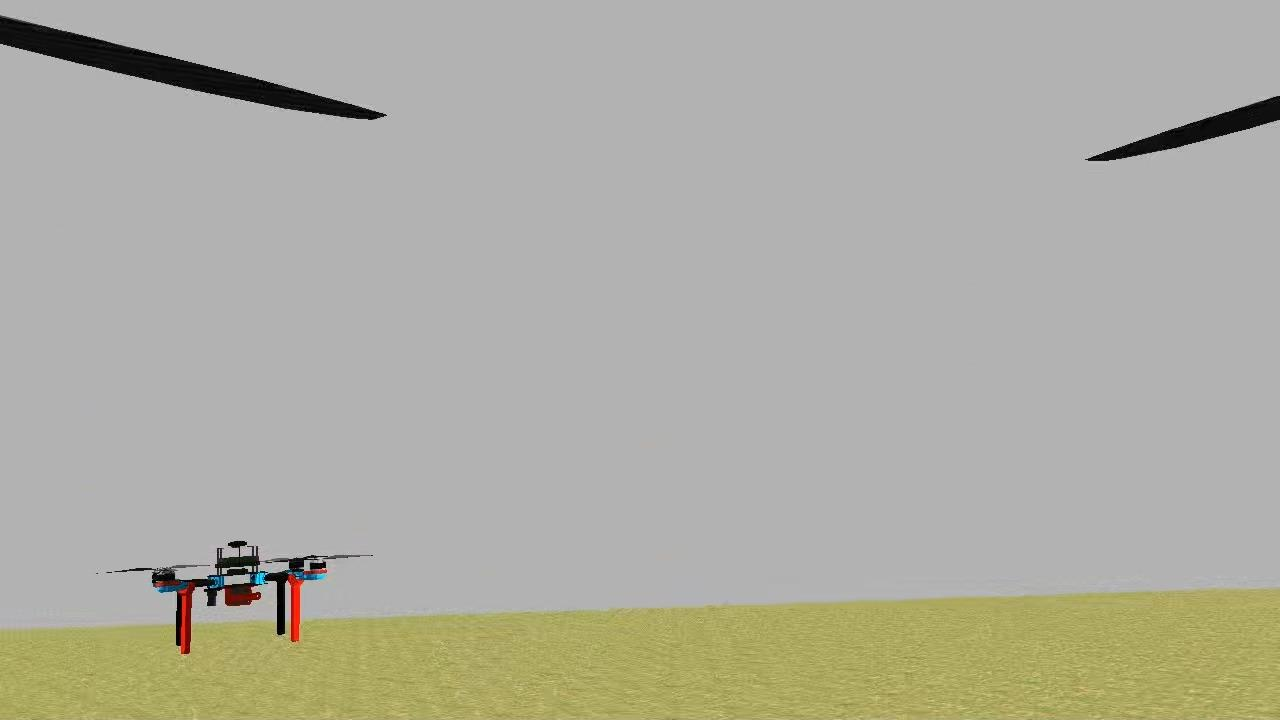UAV: (148, 536, 336, 662)
